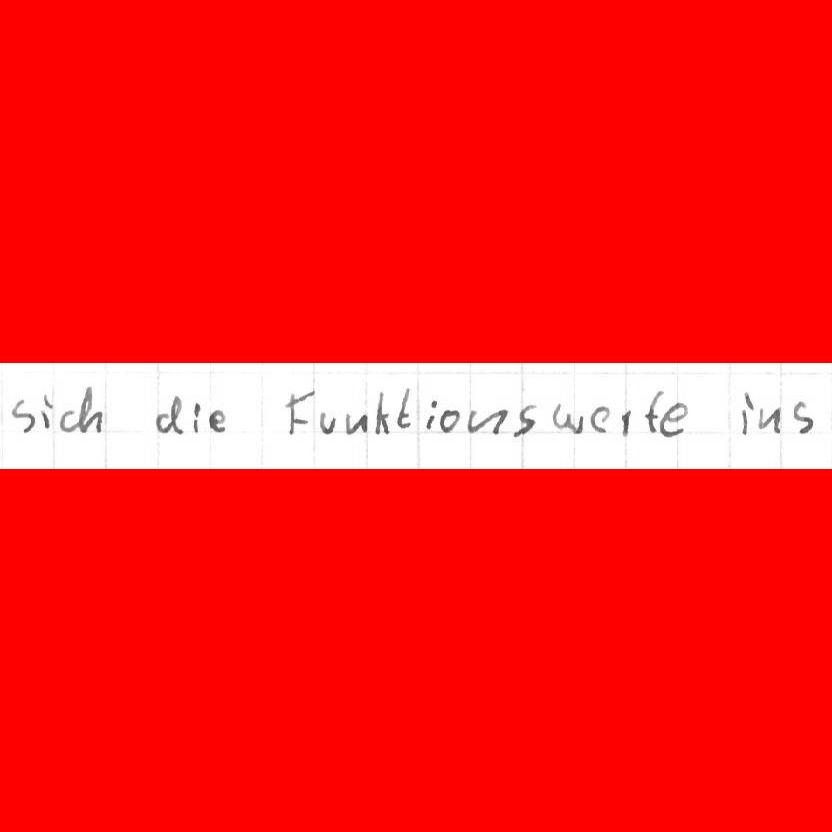Char: (282, 388, 316, 436), (153, 393, 187, 437), (78, 384, 104, 435), (466, 406, 509, 436), (550, 400, 586, 435), (7, 396, 37, 434), (659, 399, 688, 438), (735, 389, 757, 436), (512, 402, 539, 440), (394, 387, 417, 430), (644, 386, 663, 436), (372, 389, 391, 437), (757, 405, 783, 436), (791, 400, 814, 435), (617, 406, 638, 439), (587, 403, 608, 434), (344, 410, 369, 435), (205, 407, 227, 434), (39, 391, 54, 430), (439, 409, 461, 433), (423, 398, 438, 432), (57, 408, 77, 433), (319, 410, 338, 436), (192, 399, 201, 434)
